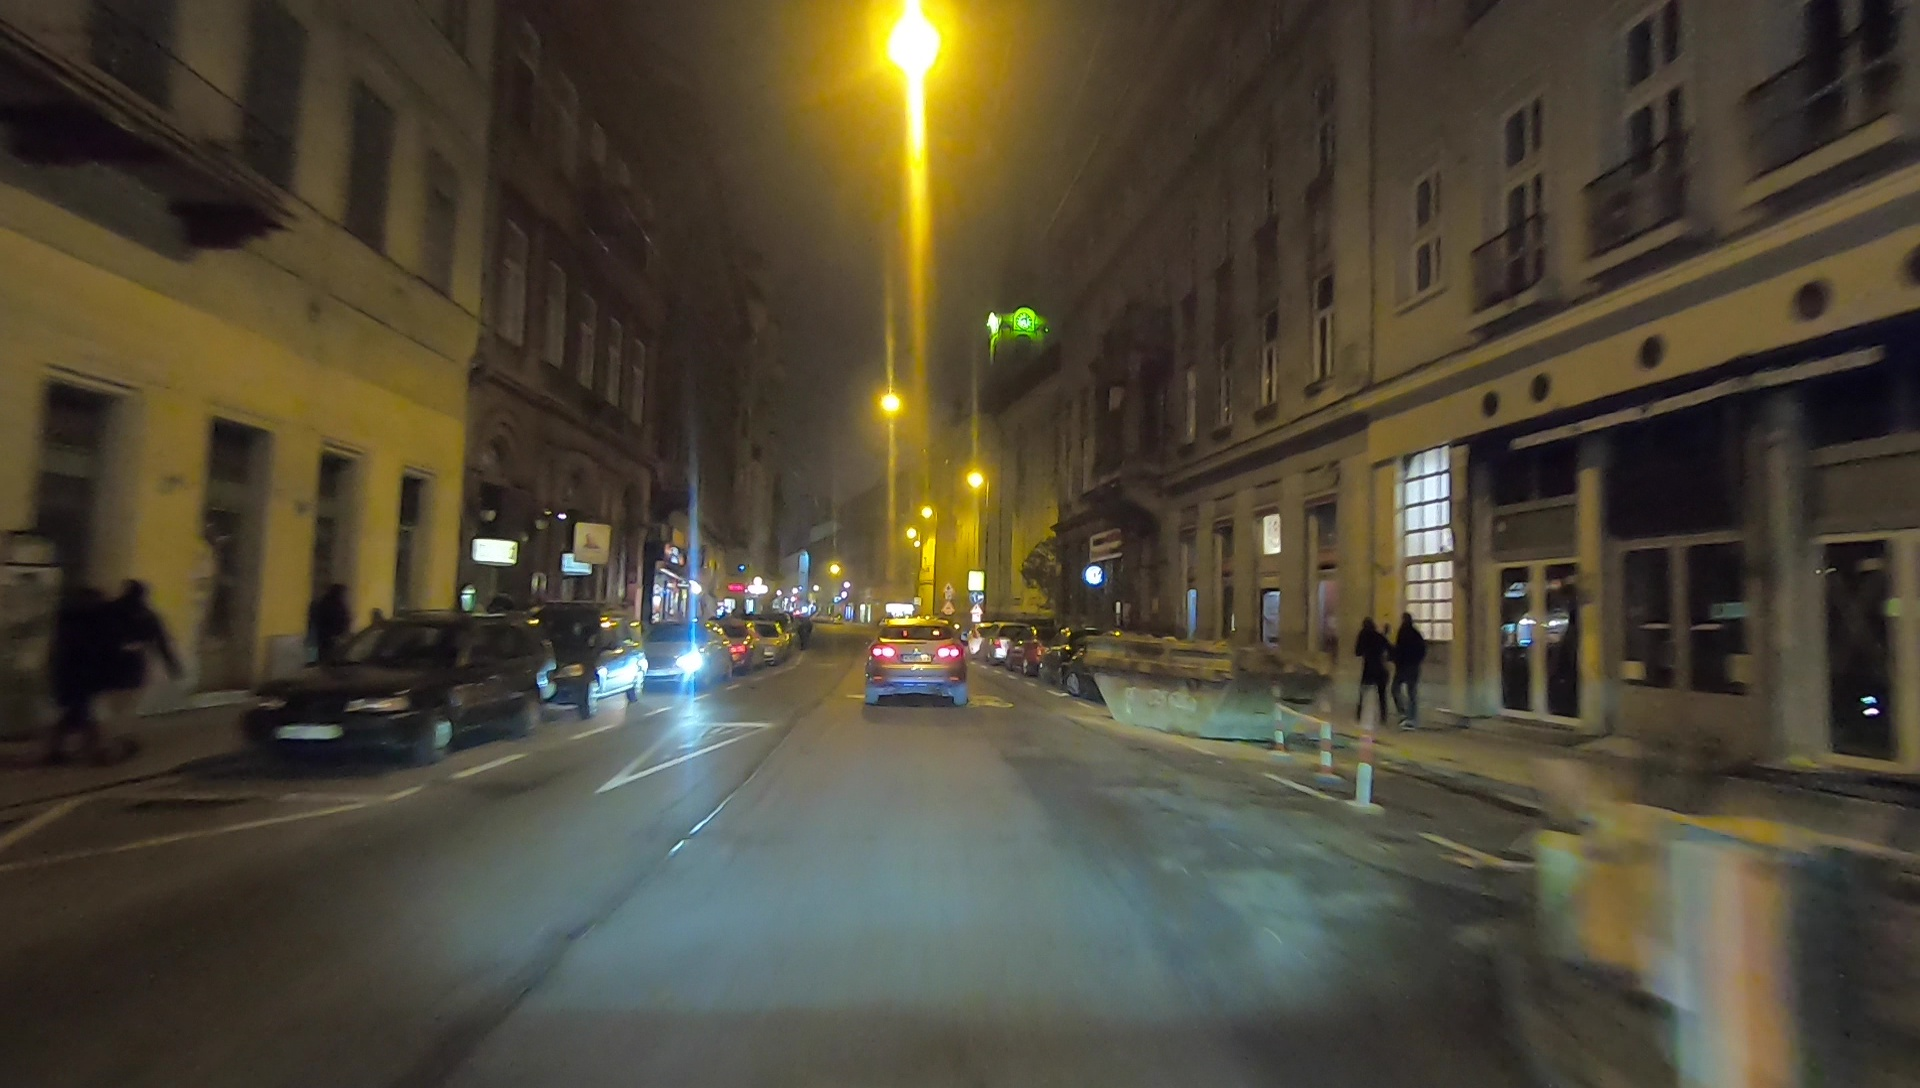person: (108, 582, 175, 739), (52, 578, 104, 765), (314, 574, 349, 693), (1354, 615, 1386, 721), (1391, 615, 1421, 724)
